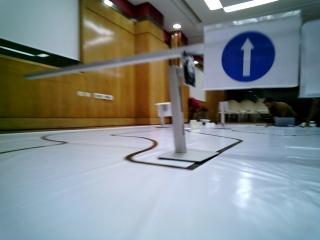straight: (204, 25, 302, 81)
